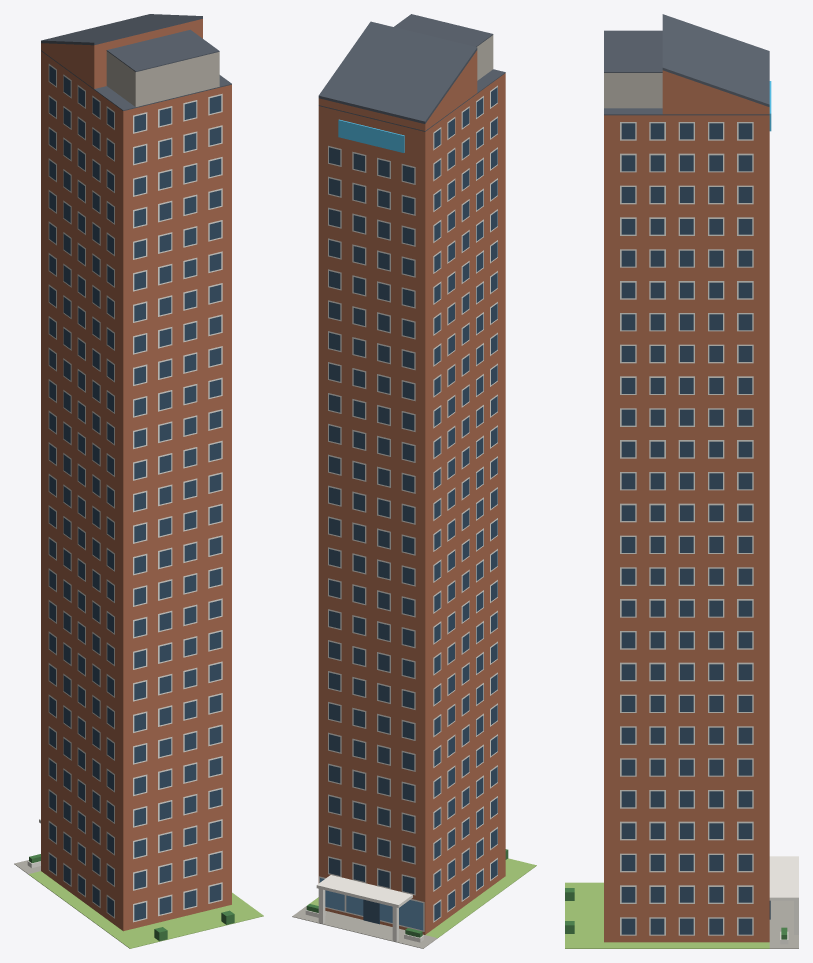
3 renders of one model, left to right at view 1: azimuth 30°, elevation 25°; view 2: azimuth 150°, elevation 25°; view 3: azimuth 270°, elevation 25°, orthographic. The views are drawn at different scales.
Visible parts, largest first — view 1: wall, roof (×3), plant_room, lawn, crown; view 2: wall, roof (×3), crown, lawn, paving, canopy, sign, storefront, plant_room; view 3: wall, roof (×3), lawn, crown, plant_room, canopy, paving.
Part boxes in pixels (box(x1,y1,x2,y2)): wall: box(41, 51, 231, 931); roof (×3): box(41, 14, 231, 110); plant_room: box(106, 51, 219, 106); lawn: box(28, 871, 263, 948); crown: box(41, 19, 202, 88); wall: box(318, 73, 505, 934); roof (×3): box(318, 14, 505, 131); crown: box(318, 50, 477, 130); lawn: box(307, 858, 536, 938); paving: box(292, 906, 437, 948); canopy: box(316, 875, 412, 907); sign: box(338, 119, 404, 152); storefront: box(399, 900, 423, 930); plant_room: box(477, 35, 493, 80); wall: box(604, 115, 769, 942); roof (×3): box(604, 14, 769, 115); lawn: box(565, 882, 769, 948); crown: box(662, 70, 769, 114); plant_room: box(604, 73, 662, 108); canopy: box(769, 856, 798, 900); paving: box(769, 900, 798, 948).
Bounding box in the file's own units: 16 × 99.06 × 24.
